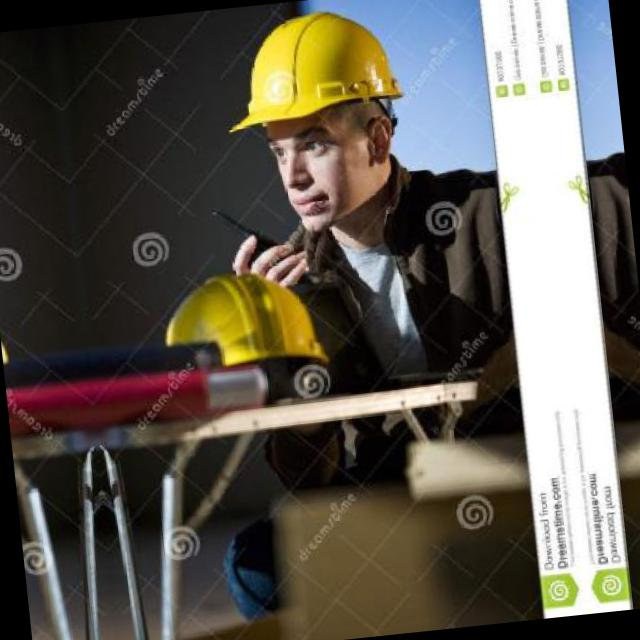helmet: (210, 0, 427, 245)
